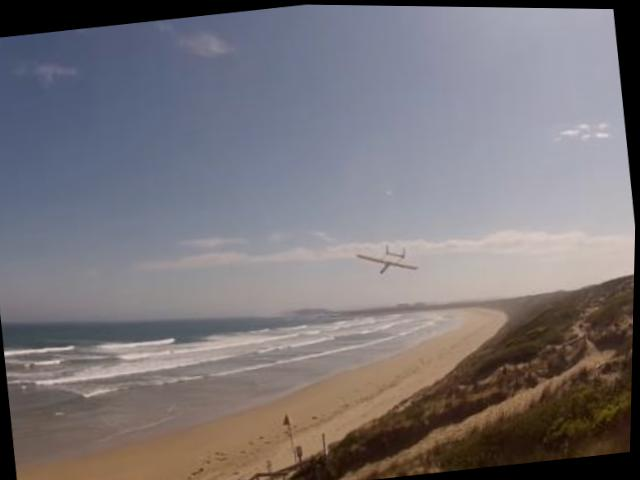uav: (351, 234, 426, 287)
